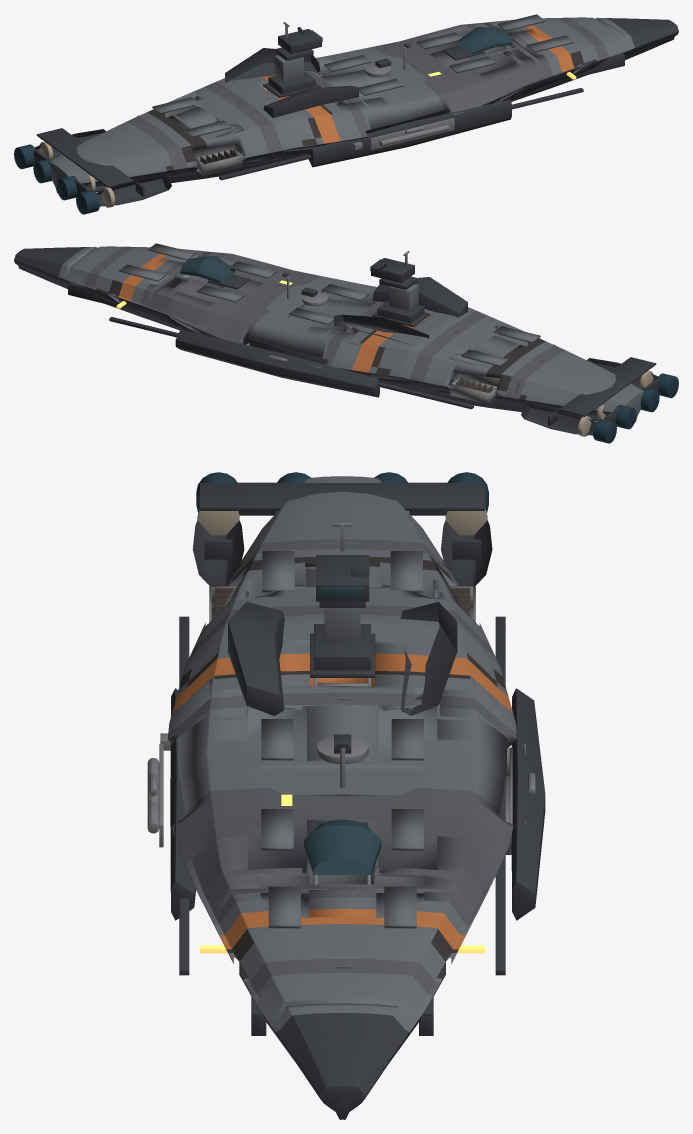
The model's file is colossus_c1_lod0.glb.
3 renders of one model, top to bottom at view 1: azimuth 30°, elevation 25°; view 2: azimuth 150°, elevation 25°; view 3: azimuth 270°, elevation 25°, orthographic. The views are drawn at different scales.
Visible parts, largest first — view 1: LOD0_Hull, LOD0_CabinShoulder, LOD0_AftWalk, LOD0_Canopy, LOD0_DriveCollar_PortIn, LOD0_Bell_PortOut, LOD0_Bell_StbdOut, LOD0_Bell_PortIn, LOD0_Bell_StbdIn; view 2: LOD0_Hull, LOD0_CabinShoulder, LOD0_AftWalk, LOD0_Canopy, LOD0_DriveCollar_PortIn, LOD0_Bell_StbdOut, LOD0_Bell_PortOut, LOD0_Bell_StbdIn, LOD0_Bell_PortIn; view 3: LOD0_Hull, LOD0_CabinShoulder, LOD0_AftWalk, LOD0_Canopy, LOD0_DriveCollar_PortIn.
Part boxes in pixels (x1,y1,x2,y2): LOD0_Hull: (49,14,678,193); LOD0_CabinShoulder: (33,27,511,206); LOD0_AftWalk: (137,22,510,175); LOD0_Canopy: (458,27,512,54); LOD0_DriveCollar_PortIn: (39,141,115,207); LOD0_Bell_PortOut: (76,190,99,214); LOD0_Bell_StbdOut: (14,144,35,169); LOD0_Bell_PortIn: (56,176,77,200); LOD0_Bell_StbdIn: (33,158,52,183); LOD0_Hull: (14,243,643,422); LOD0_CabinShoulder: (175,258,659,435); LOD0_AftWalk: (182,251,555,404); LOD0_Canopy: (180,256,234,283); LOD0_DriveCollar_PortIn: (577,370,653,436); LOD0_Bell_StbdOut: (593,419,616,443); LOD0_Bell_PortOut: (657,373,678,398); LOD0_Bell_StbdIn: (615,405,636,429); LOD0_Bell_PortIn: (640,387,659,412); LOD0_Hull: (167,476,516,1119); LOD0_CabinShoulder: (170,482,545,920); LOD0_AftWalk: (147,523,535,884); LOD0_Canopy: (304,819,381,874); LOD0_DriveCollar_PortIn: (197,508,487,535).
Size of what is drawn, in the model's own units: 23.19 by 4.81 by 6.41.
